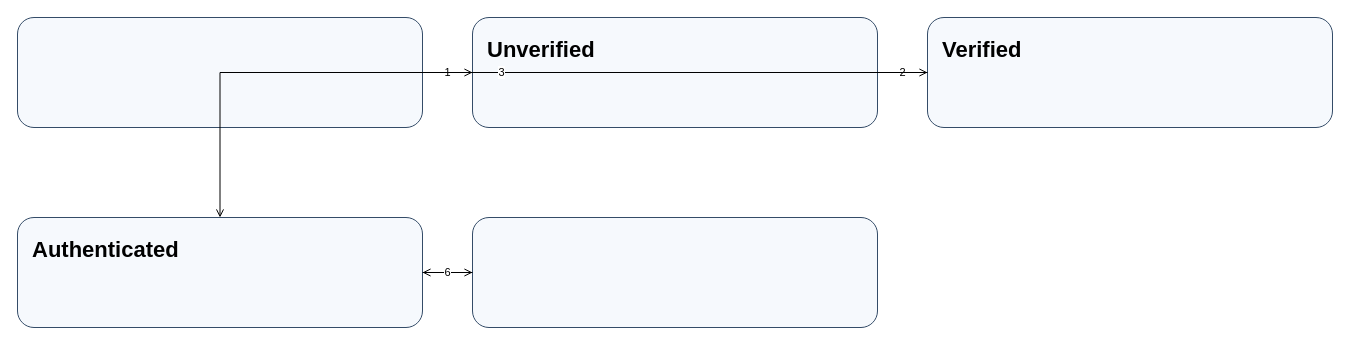
Image size: 1350x345. Some labels were removed from this diagram. The centre of each missing label's shape, as x and y in pixels:
SignedOut: point (675, 272)
Unregistered: point (219, 72)
